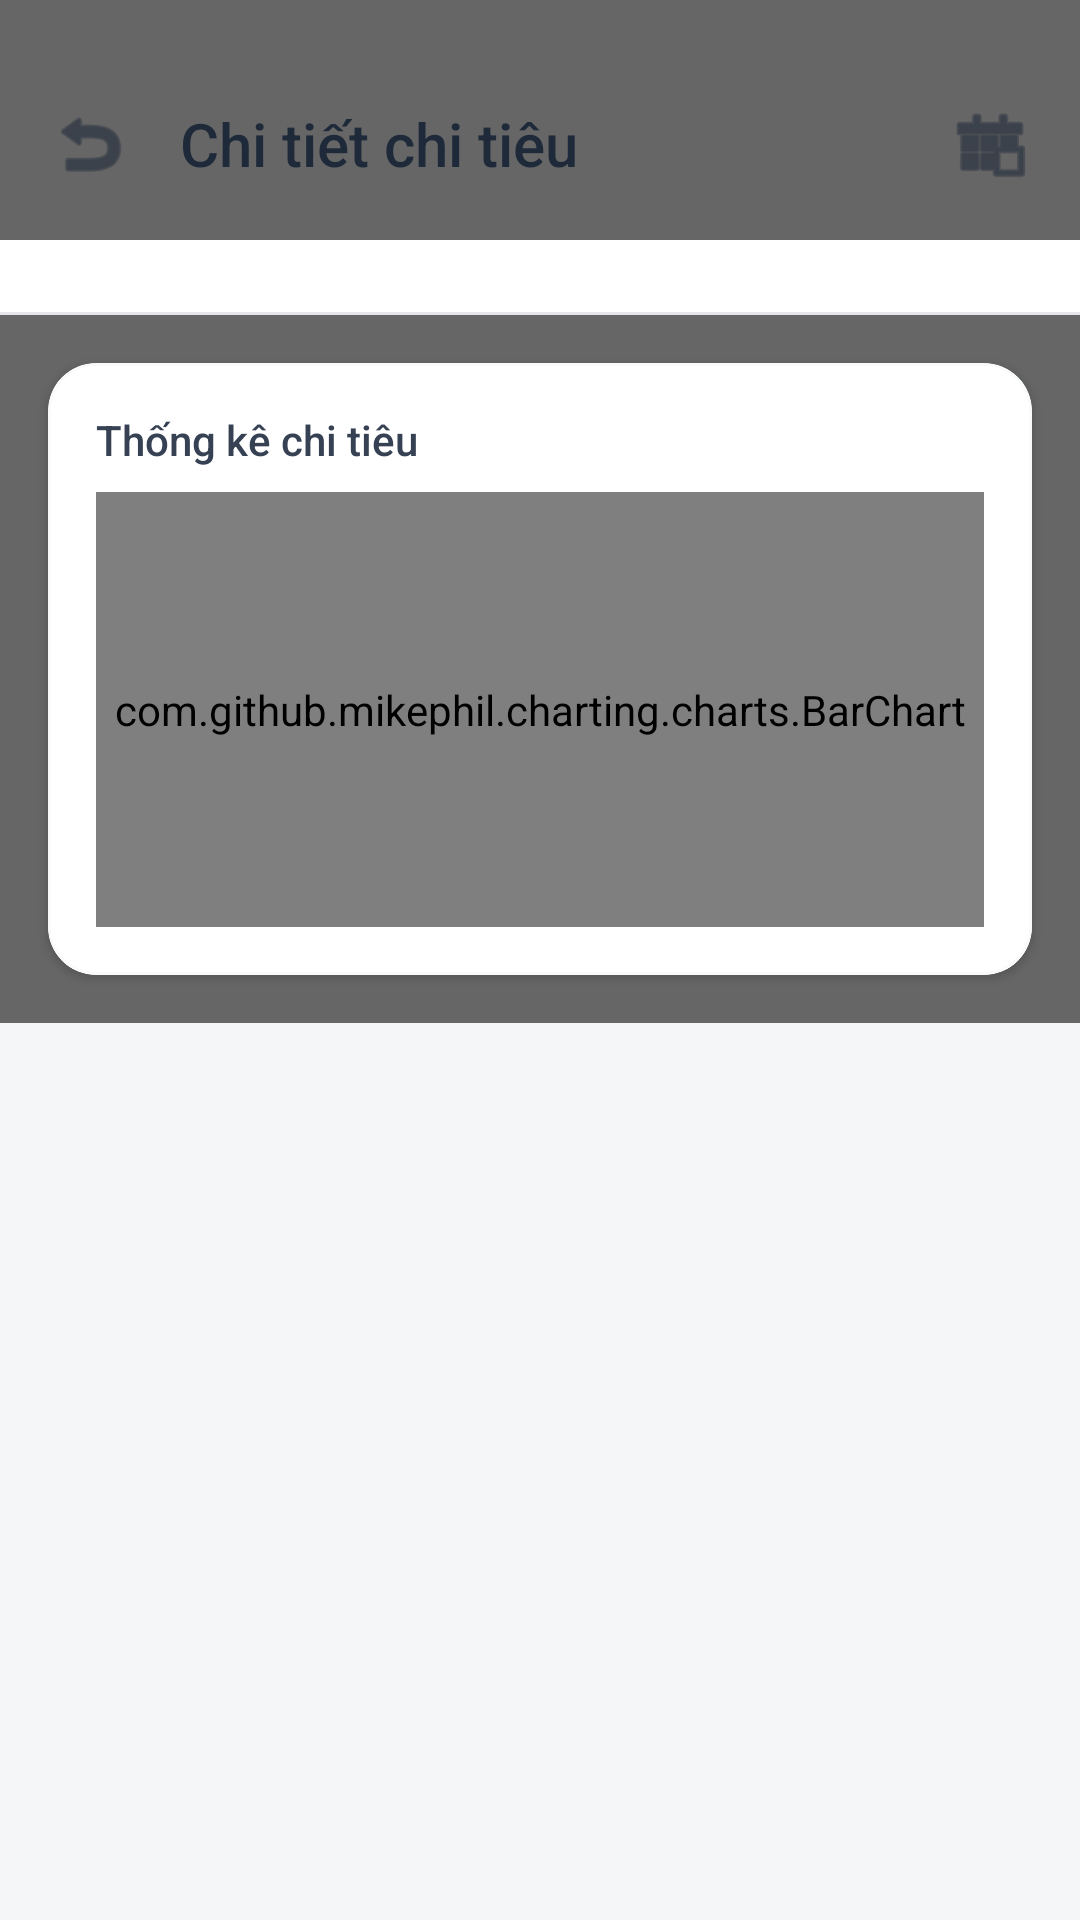

Locate icon controls on the screen. Image size 1080w x 1920h, boxes as bbox(x1, y1, x2, y2).
revert: bbox(61, 118, 121, 171)
today: bbox(957, 114, 1025, 176)
